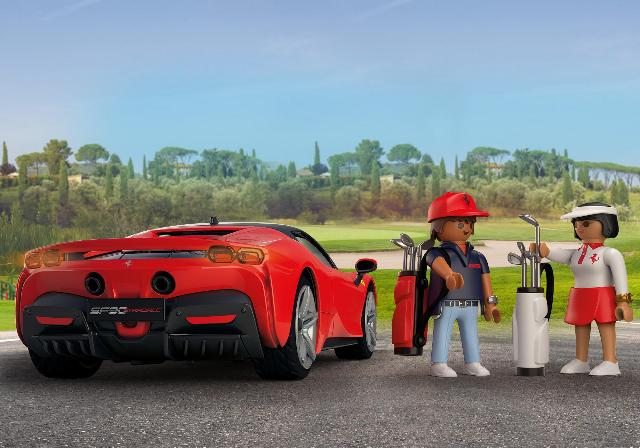ferrari: (16, 215, 378, 381)
